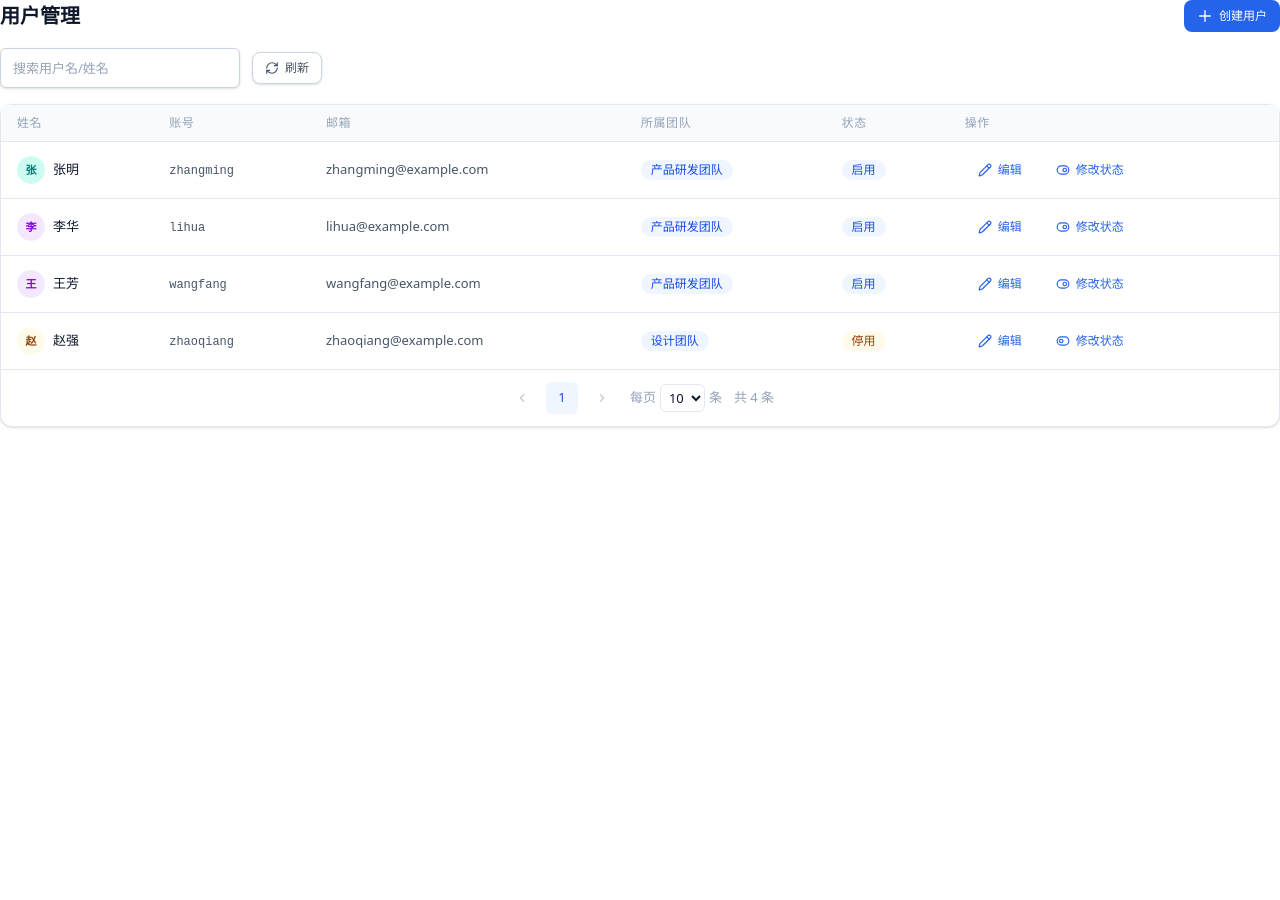
Test: UserManagementPage › creates user and shows initial password dialog
Expected: the text "张明" is shown, left=53, top=160, right=79, bottom=180
Click the button "创建用户" at coordinates (1232, 16), box left=1184, top=0, right=1279, bottom=32
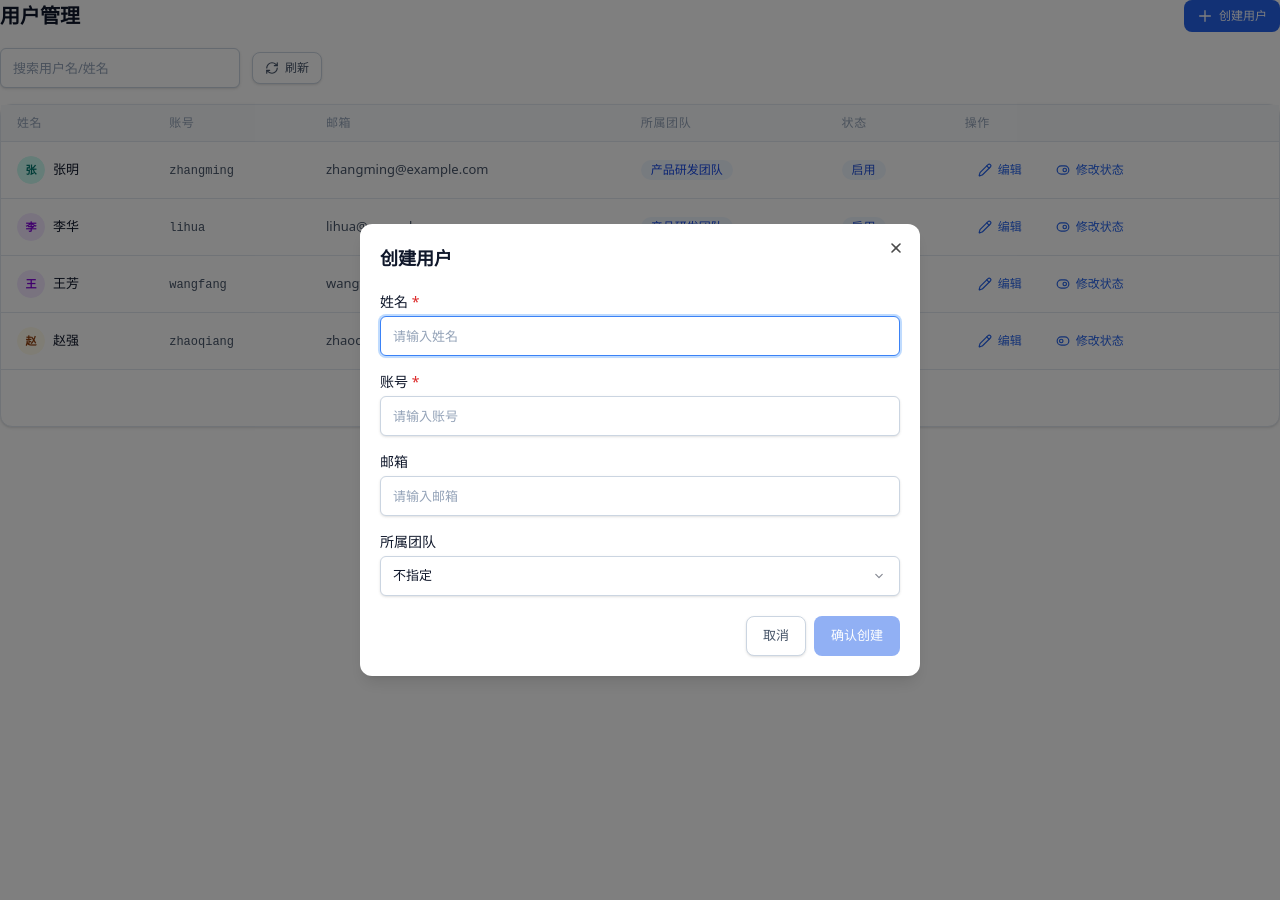
Type "新用户" into the field with placeholder "请输入姓名" at coordinates (640, 336), box left=380, top=316, right=900, bottom=356
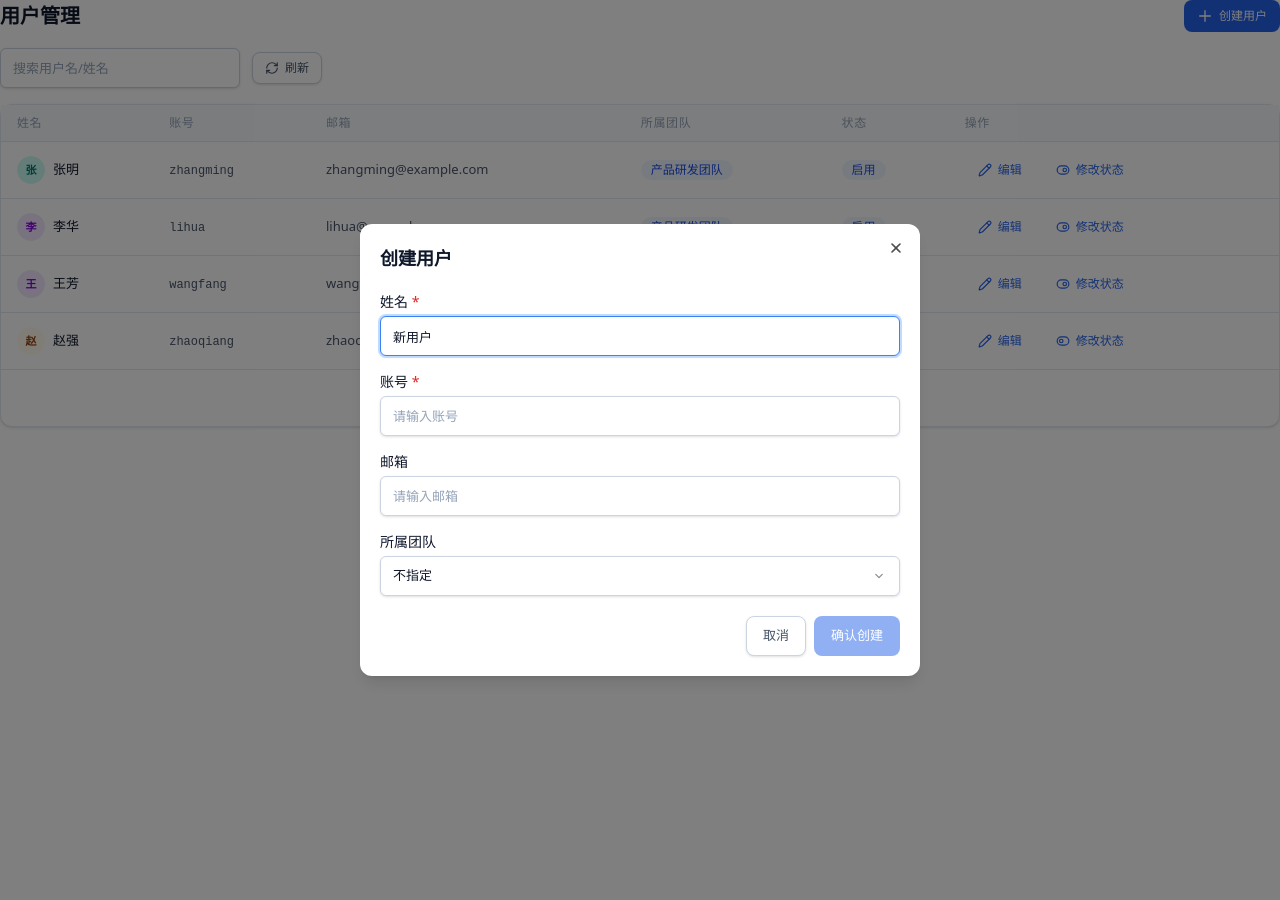
Type "newuser" into the field with placeholder "请输入账号" at coordinates (640, 416), box left=380, top=396, right=900, bottom=436
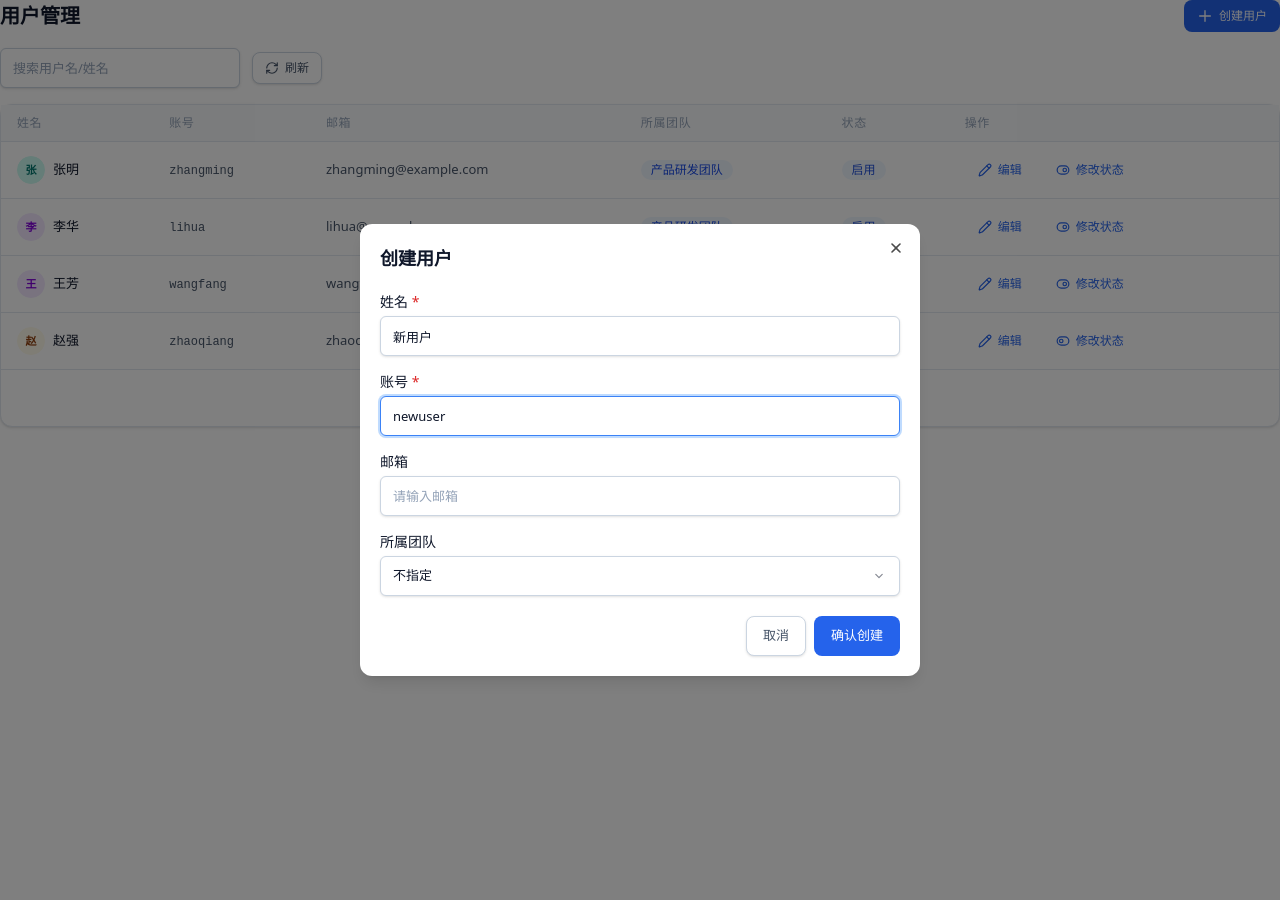
Click the button "确认创建" at coordinates (857, 636), box left=814, top=616, right=900, bottom=656
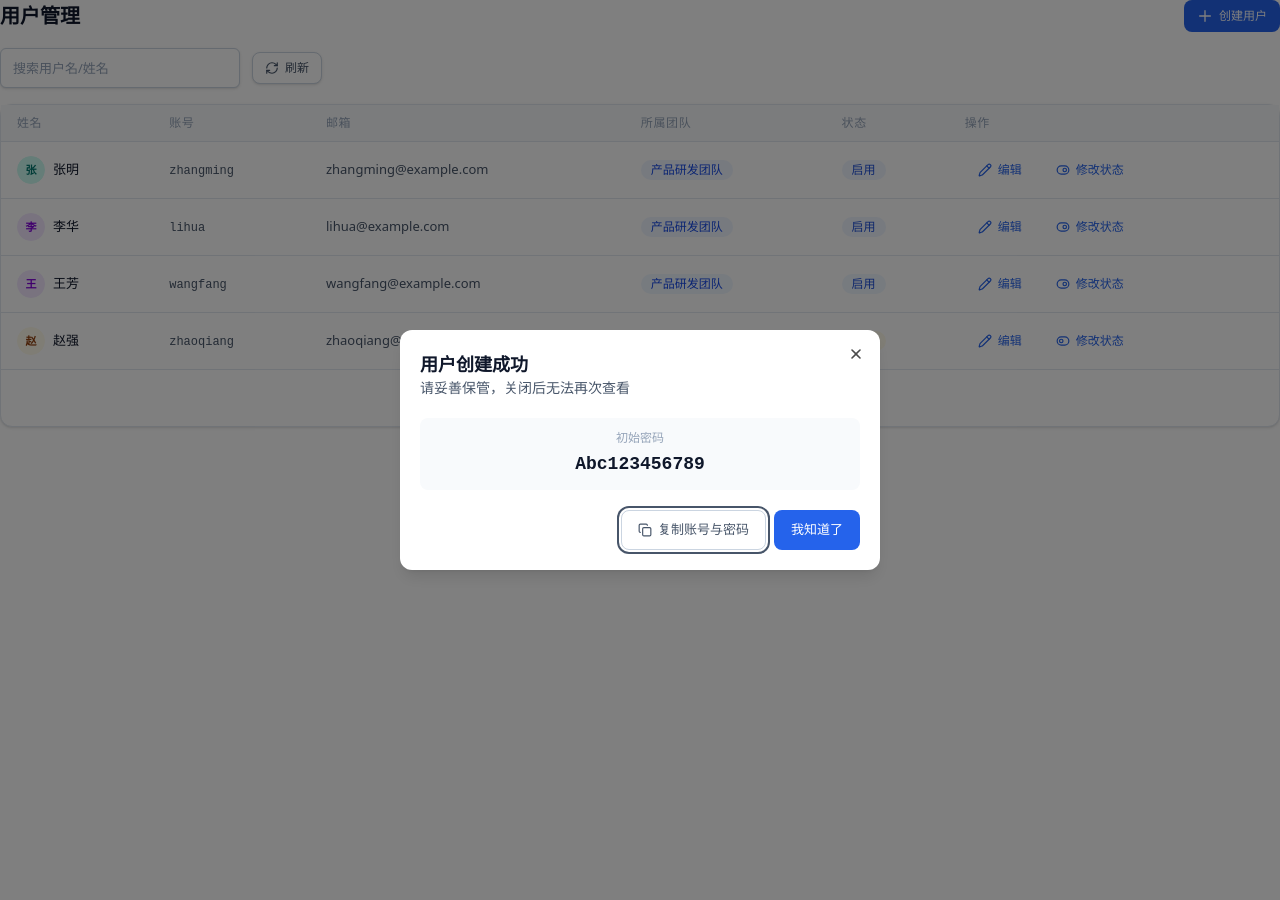
Expected: the text with test id "initial-password" reads "Abc123456789", left=575, top=454, right=705, bottom=474
Expected: the text "请妥善保管，关闭后无法再次查看" is shown, left=420, top=378, right=630, bottom=397
